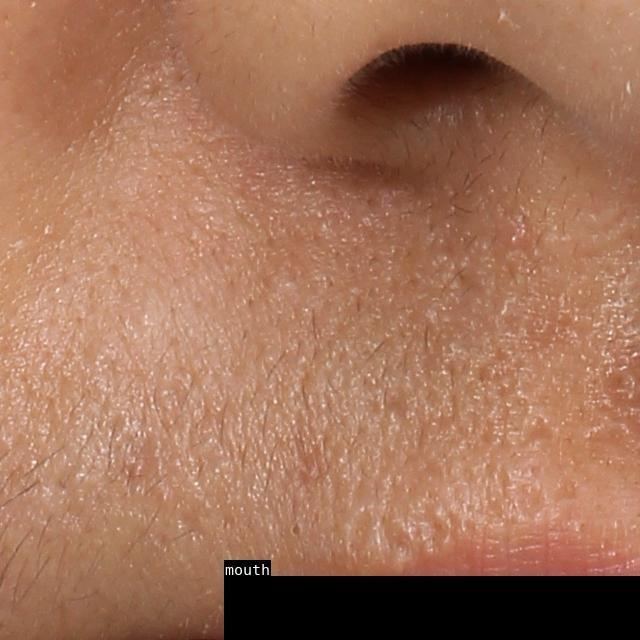atrophic_scar: (513, 476, 552, 527), (519, 411, 564, 449), (343, 506, 376, 556)
comedo: (288, 516, 306, 544)
